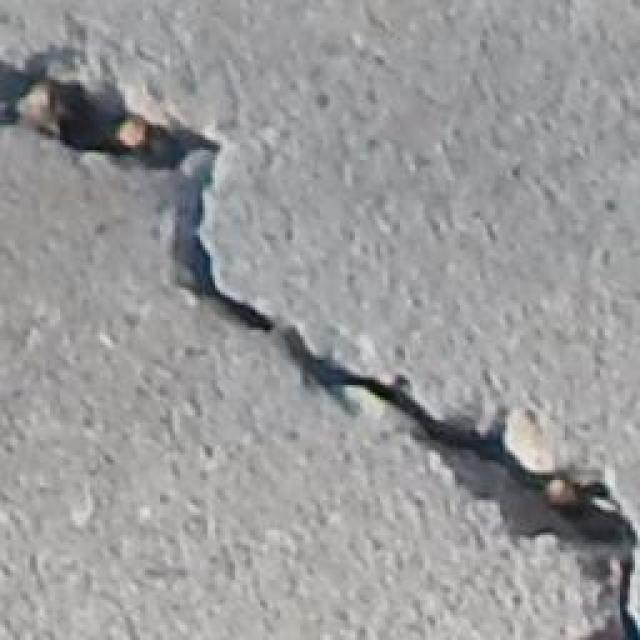concrete-crack: (0, 51, 640, 640)
